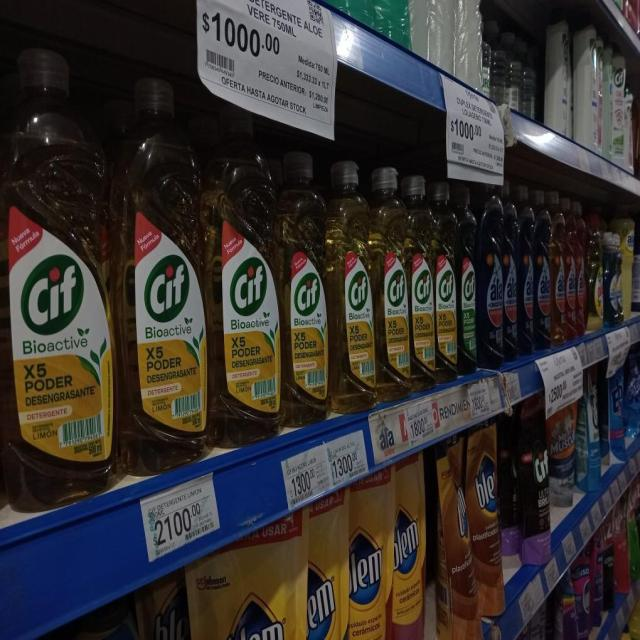ala_conc_azul: (478, 182, 502, 369), (534, 188, 551, 352), (518, 186, 534, 356), (503, 184, 518, 364)
ala_conc_rojo: (551, 192, 565, 346), (565, 198, 576, 342), (576, 199, 586, 338), (586, 206, 594, 335)
cif_conc_bot_amarilla: (0, 41, 111, 512), (111, 72, 205, 474), (206, 105, 280, 444), (280, 148, 327, 428), (327, 158, 374, 412), (374, 165, 408, 394), (409, 173, 434, 389), (434, 179, 457, 381)
cif_conc_botella_verde: (457, 183, 477, 375)
magistral_con_amarillo: (630, 572, 640, 639)
